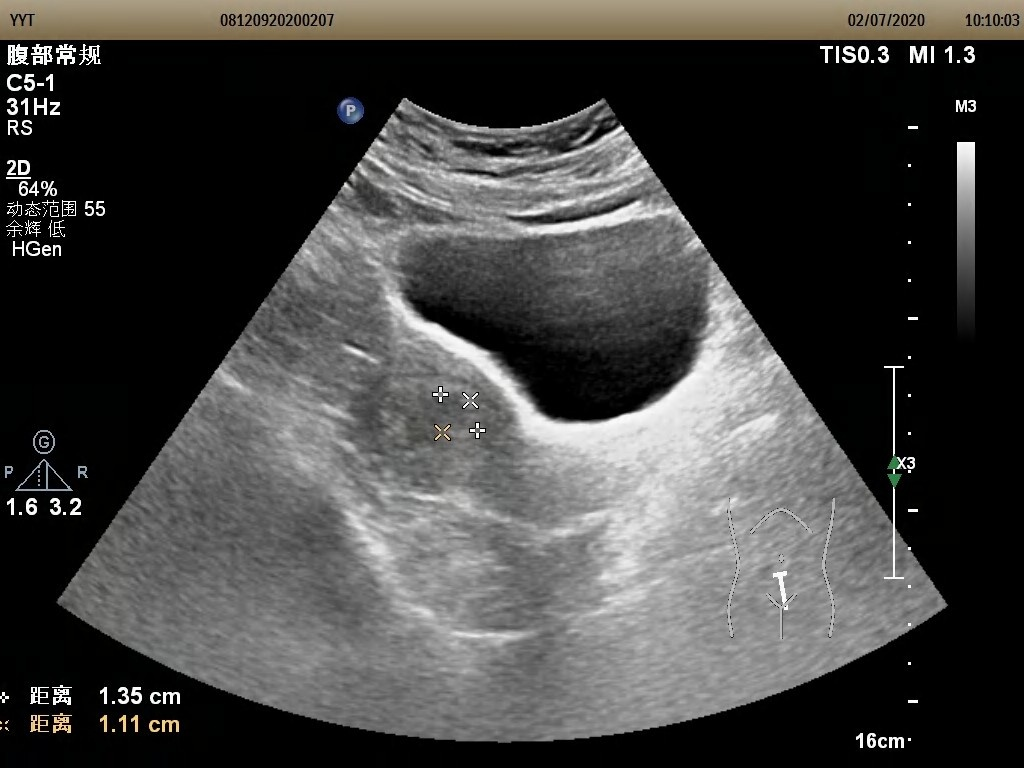肌瘤: (433, 396, 481, 433)
